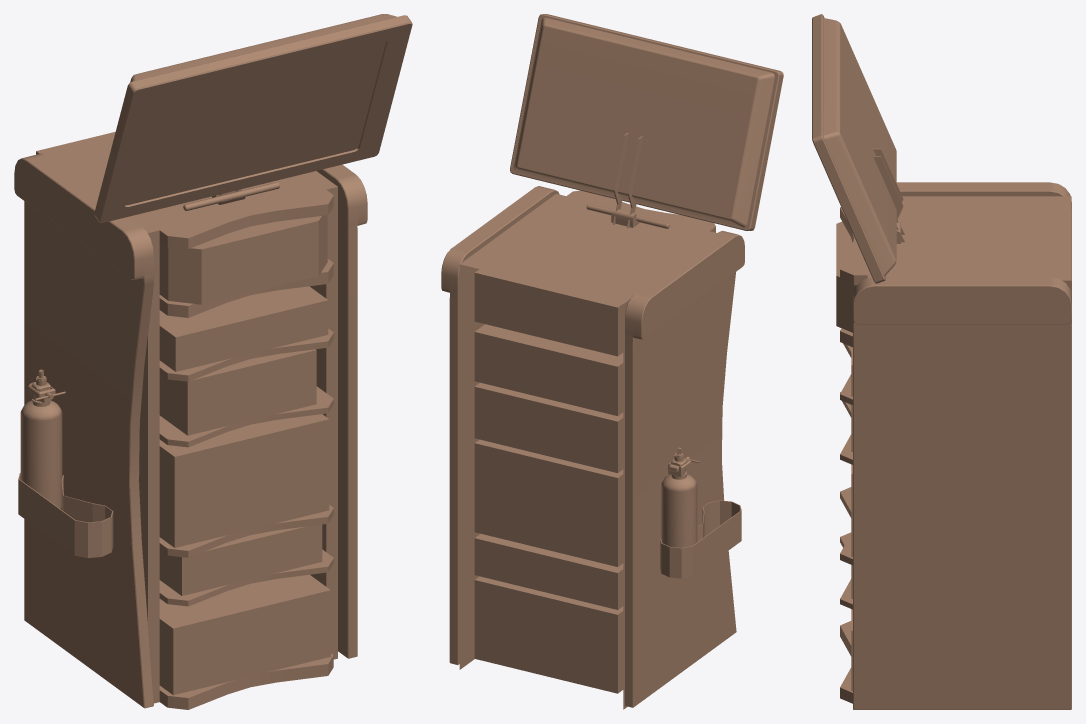
Rendered from MonitorTest.fbx.
3 renders of one model, left to right at view 1: azimuth 30°, elevation 25°; view 2: azimuth 150°, elevation 25°; view 3: azimuth 270°, elevation 25°, orthographic. The views are drawn at different scales.
Parts seen in each view (by area): view 1: Furniture_MonitorCart_01:Furniture_MonitorCart_01; view 2: Furniture_MonitorCart_01:Furniture_MonitorCart_01; view 3: Furniture_MonitorCart_01:Furniture_MonitorCart_01.
Part boxes in pixels (<box>): Furniture_MonitorCart_01:Furniture_MonitorCart_01: <box>14,14,412,709</box>; Furniture_MonitorCart_01:Furniture_MonitorCart_01: <box>441,14,783,709</box>; Furniture_MonitorCart_01:Furniture_MonitorCart_01: <box>812,14,1071,709</box>.
Bounding box in the file's own units: 16.72 × 36.62 × 14.54.
